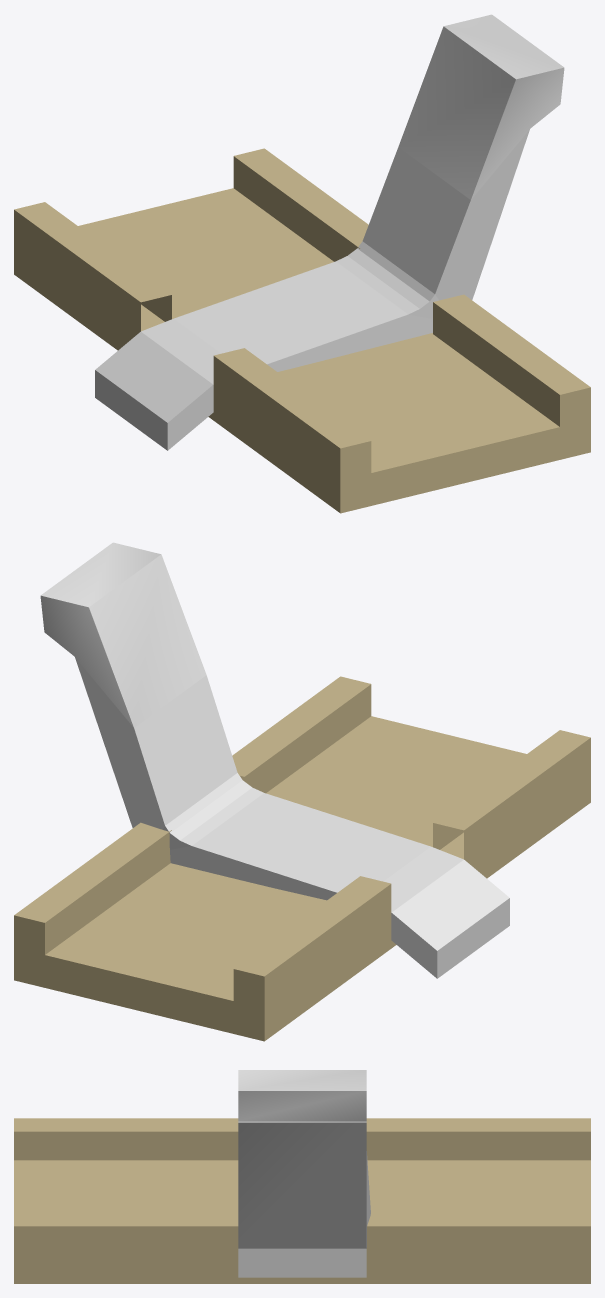
The picture shows the model from 3 angles, top to bottom: view 1: azimuth 30°, elevation 25°; view 2: azimuth 150°, elevation 25°; view 3: azimuth 270°, elevation 25°; orthographic projection. The views are drawn at different scales.
Visible parts, largest first — view 1: pl2, waterfall; view 2: pl2, waterfall; view 3: pl2, waterfall.
Part boxes in pixels (box(x1,y1,x2,y2)): pl2: box(14, 148, 590, 513); waterfall: box(95, 14, 564, 450); pl2: box(14, 676, 590, 1041); waterfall: box(40, 542, 509, 978); pl2: box(14, 1118, 590, 1283); waterfall: box(238, 1070, 370, 1277).
Size of the model in its own units: 12.63 by 8.72 by 18.
